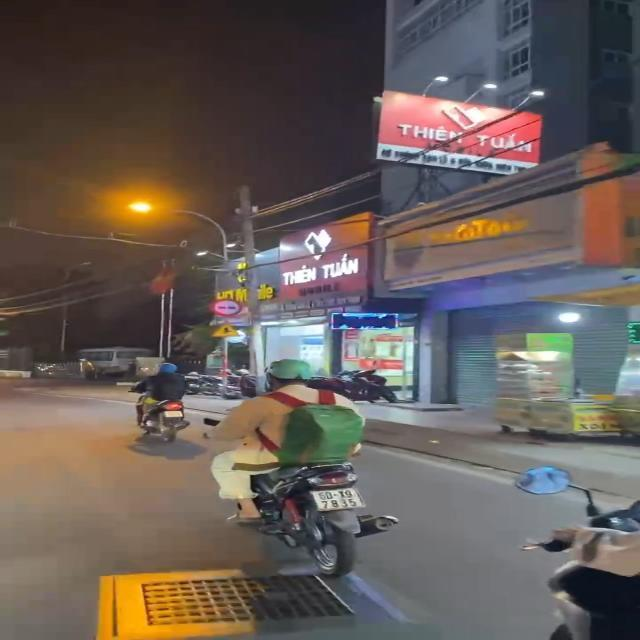125-cam-vuot: (209, 298, 243, 318)
207-giao-nhau-voi-duong-khong-uu-tien: (210, 320, 240, 338)
